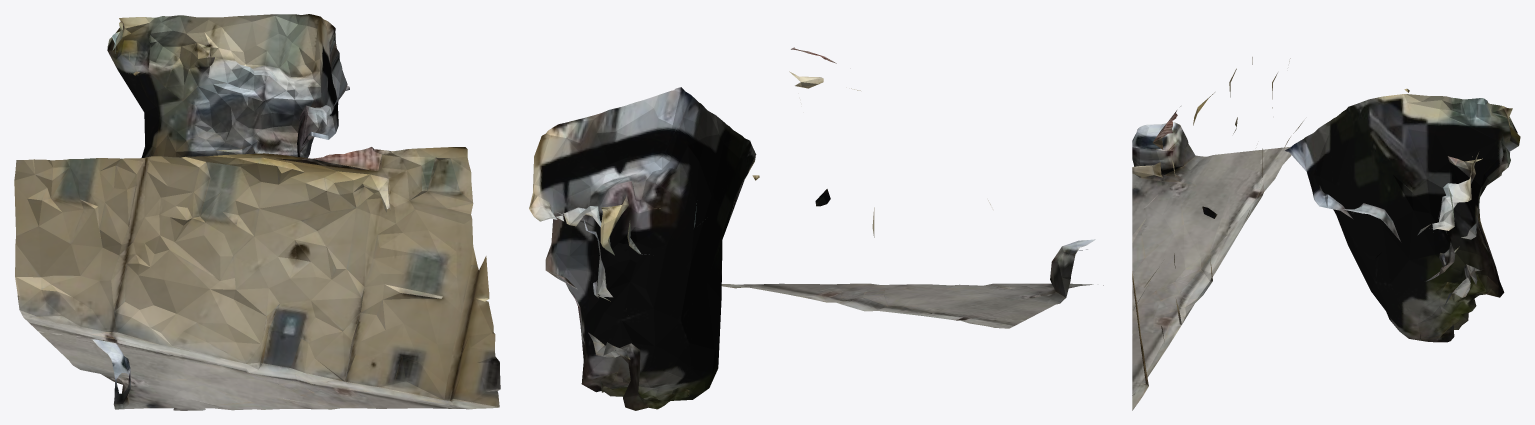
3 renders of one model, left to right at view 1: azimuth 30°, elevation 25°; view 2: azimuth 150°, elevation 25°; view 3: azimuth 270°, elevation 25°, orthographic. The views are drawn at different scales.
Size of the model in its own units: 13.12 by 8.75 by 13.16.
Materials: 3 (3 with a texture image).
